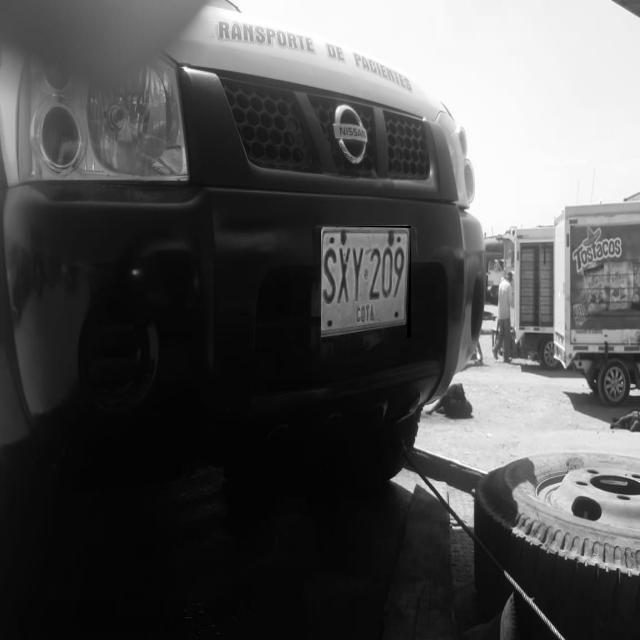plate: (321, 228, 411, 338)
